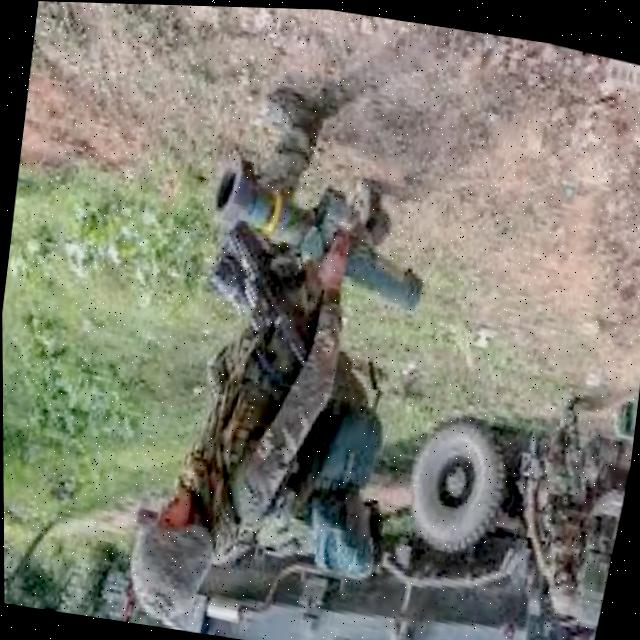rocket: (194, 144, 447, 321)
